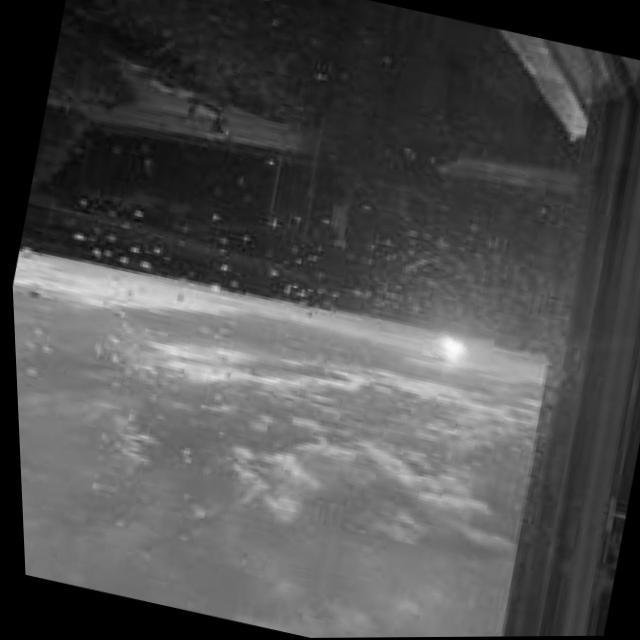sun: (433, 335, 463, 364)
